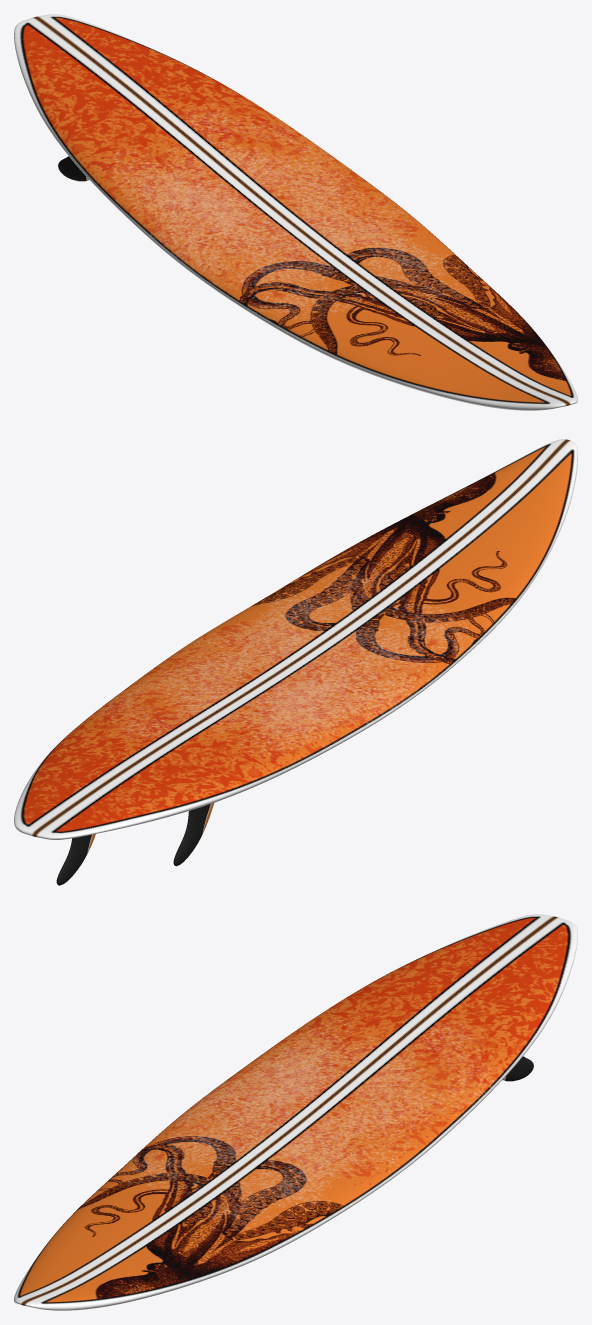
Rendered from surfboard.glb.
3 renders of one model, top to bottom at view 1: azimuth 30°, elevation 25°; view 2: azimuth 150°, elevation 25°; view 3: azimuth 330°, elevation 25°, orthographic.
Parts seen in each view (by area): view 1: Prancha; view 2: Prancha, Cube.001, Cube; view 3: Prancha.
Part boxes in pixels (<box>): Prancha: <box>14,14,577,410</box>; Prancha: <box>14,439,577,839</box>; Cube.001: <box>173,803,214,866</box>; Cube: <box>56,834,95,885</box>; Prancha: <box>14,914,577,1310</box>.
Size of the model in its own units: 0.4552 by 0.1661 by 1.9.
2 materials, 2 textured.
